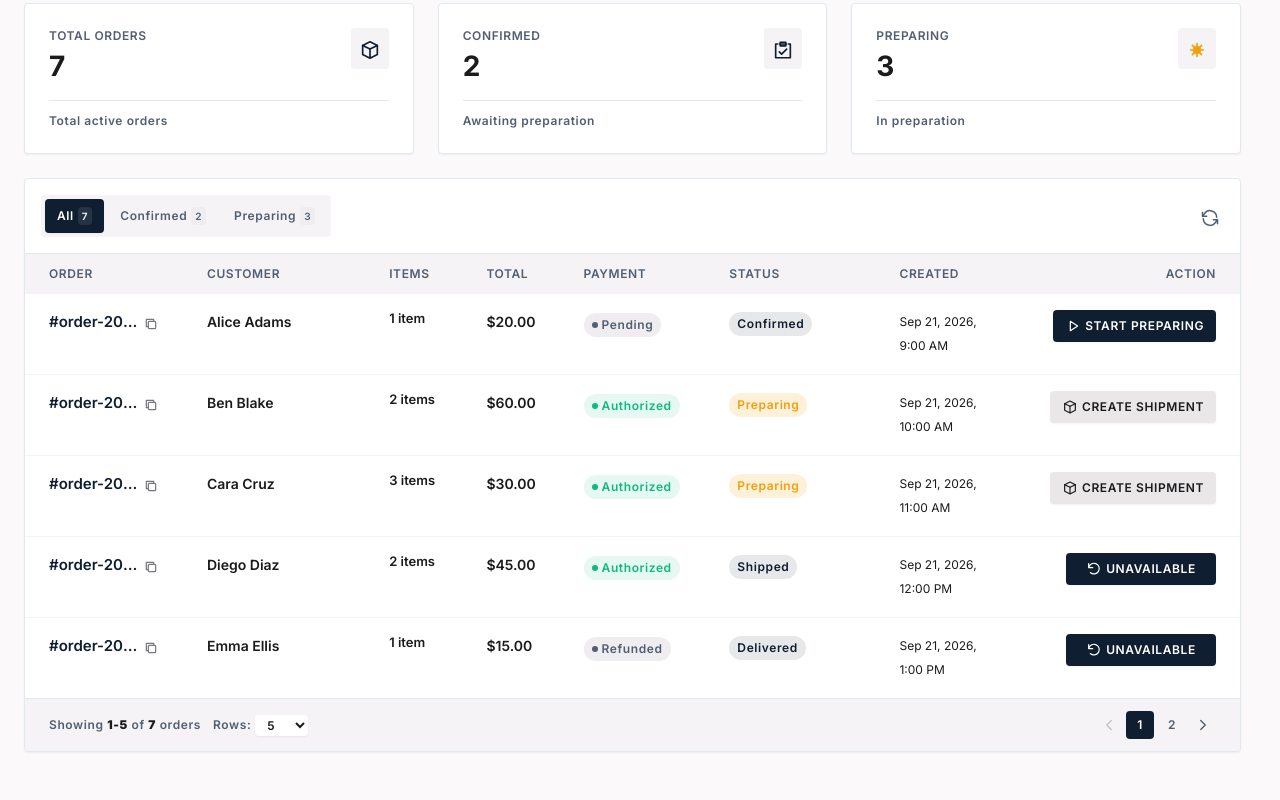
Test: FulfillmentQueue › renders mixed order states and paginates the queue
(page scrolled)
Check: the link "#order-2001" is shown, box [49,310,139,334]
Check: the link "#order-2002" is shown, box [49,391,139,415]
Click the button named "Next page": x=1203, y=725 [1190,712,1216,738]
(page scrolled)
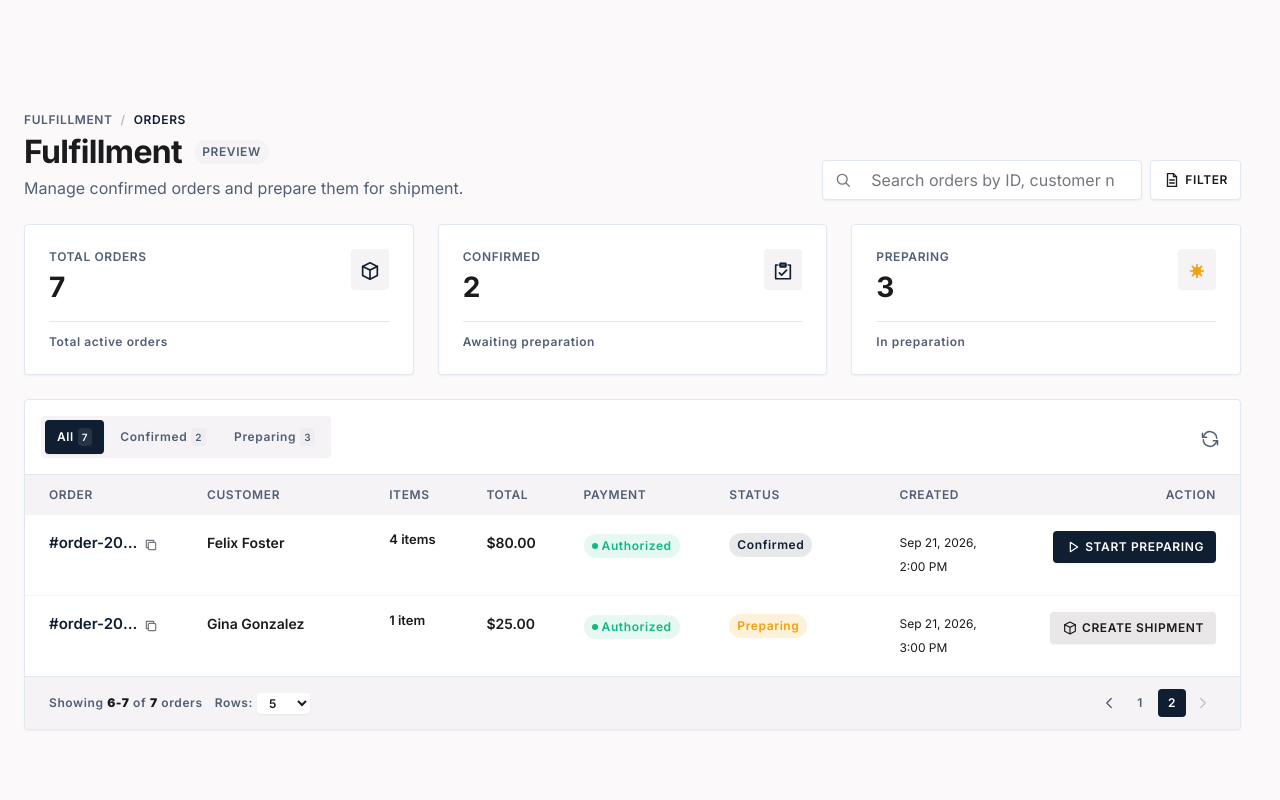
Check: the link "#order-2007" is shown, box [49,612,139,636]
Check: the link "#order-2001" is gone
Check: the text "Showing 6-7 of 7 orders" is shown, box [49,695,203,711]
